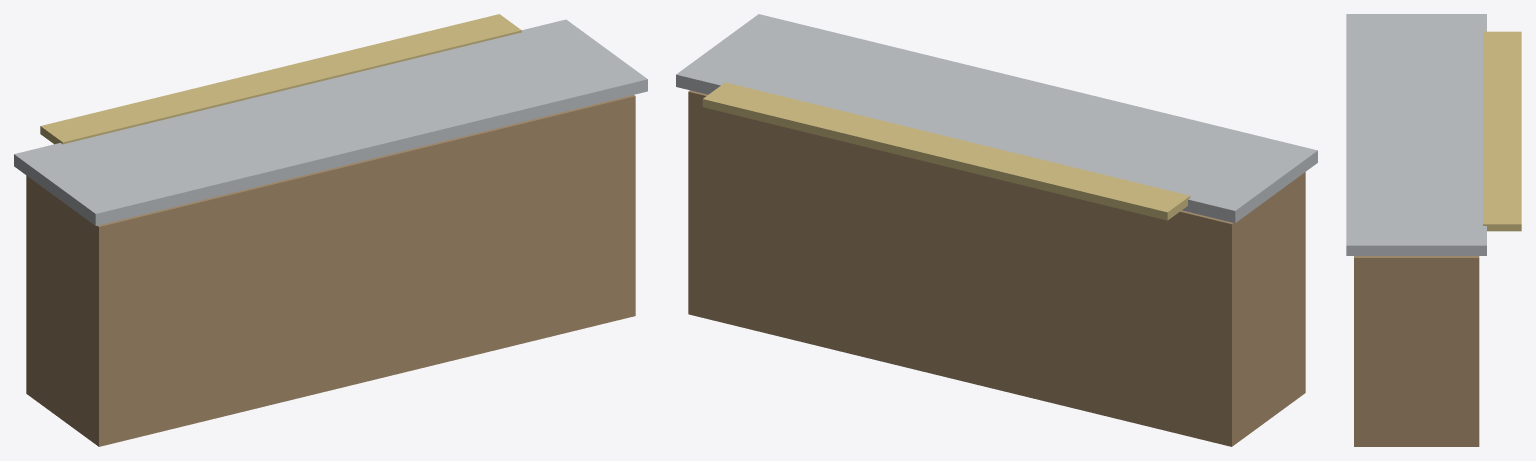
File: mdl_furniture_counter_shop_001.glb
3 renders of one model, left to right at view 1: azimuth 30°, elevation 25°; view 2: azimuth 150°, elevation 25°; view 3: azimuth 270°, elevation 25°, orthographic. The views are drawn at different scales.
Parts seen in each view (by area): view 1: m_madera, m_zinc, m_oro_viejo; view 2: m_madera, m_zinc, m_oro_viejo; view 3: m_zinc, m_madera, m_oro_viejo.
Boxes of the visible parts, x1=… form: m_madera: x1=26, y1=95, x2=635, y2=446; m_zinc: x1=14, y1=19, x2=647, y2=225; m_oro_viejo: x1=40, y1=14, x2=521, y2=144; m_madera: x1=688, y1=90, x2=1305, y2=446; m_zinc: x1=676, y1=14, x2=1317, y2=223; m_oro_viejo: x1=702, y1=82, x2=1190, y2=220; m_zinc: x1=1346, y1=14, x2=1486, y2=255; m_madera: x1=1354, y1=256, x2=1479, y2=446; m_oro_viejo: x1=1483, y1=31, x2=1521, y2=231.
Bounding box in the file's own units: 2.85 × 1.18 × 0.91.
